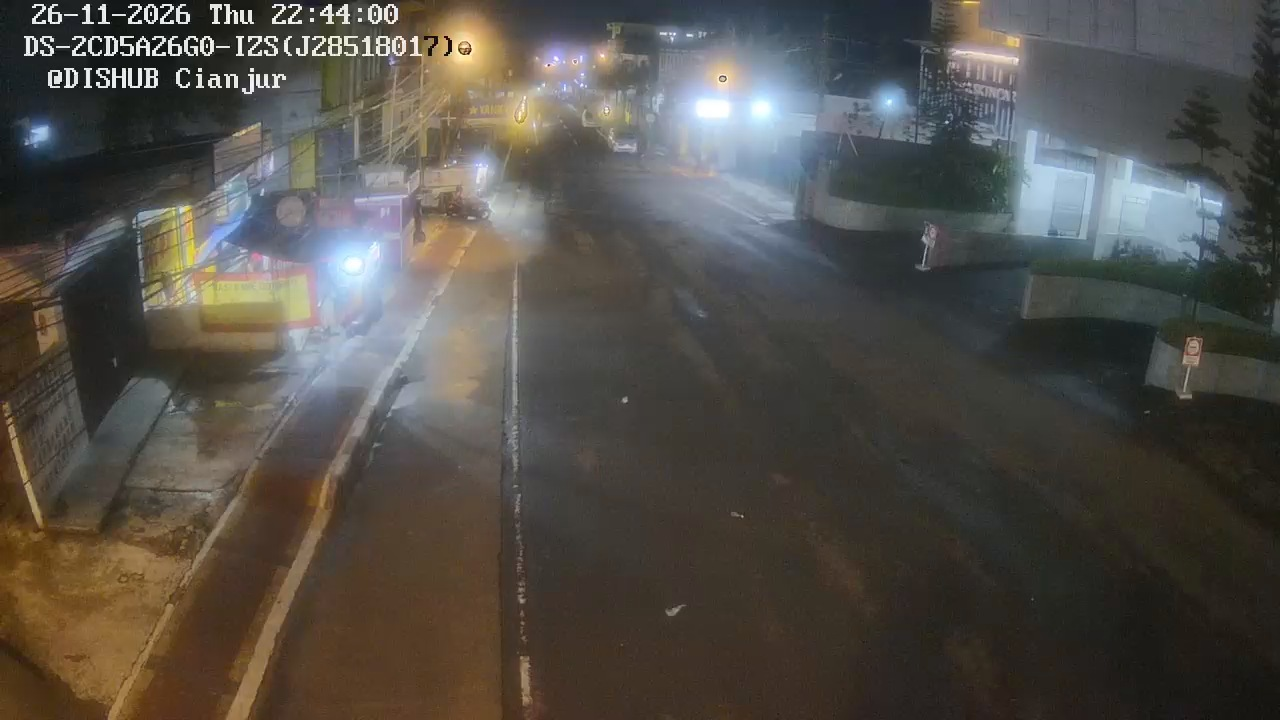Gerobak: (193, 189, 388, 335)
